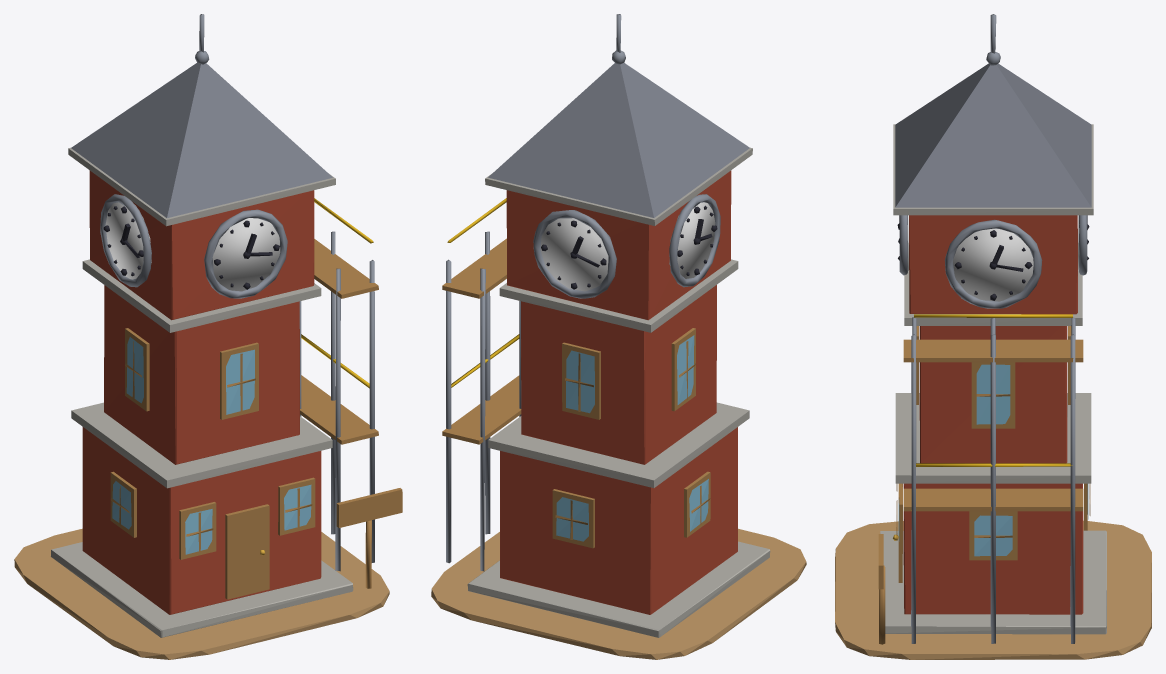
The model's file is clock-tower-lod1-3.5291113f.glb.
3 views of the same model, side by side, from view 1: azimuth 30°, elevation 25°; view 2: azimuth 150°, elevation 25°; view 3: azimuth 270°, elevation 25° (orthographic). The views are drawn at different scales.
Visible parts, largest first — view 1: ClockTower_Stage3__T_vcol; view 2: ClockTower_Stage3__T_vcol; view 3: ClockTower_Stage3__T_vcol.
Part boxes in pixels (x1=…): ClockTower_Stage3__T_vcol: x1=14, y1=14, x2=402, y2=659; ClockTower_Stage3__T_vcol: x1=431, y1=14, x2=806, y2=659; ClockTower_Stage3__T_vcol: x1=835, y1=14, x2=1151, y2=659.
Size of the model in its own units: 4.96 by 9.62 by 4.78.
